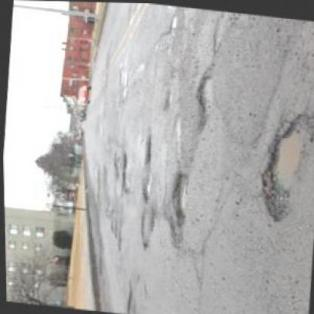Hueco: (254, 104, 310, 224), (190, 70, 216, 132), (164, 168, 190, 224), (138, 167, 153, 201), (116, 148, 128, 187), (140, 129, 152, 165)
